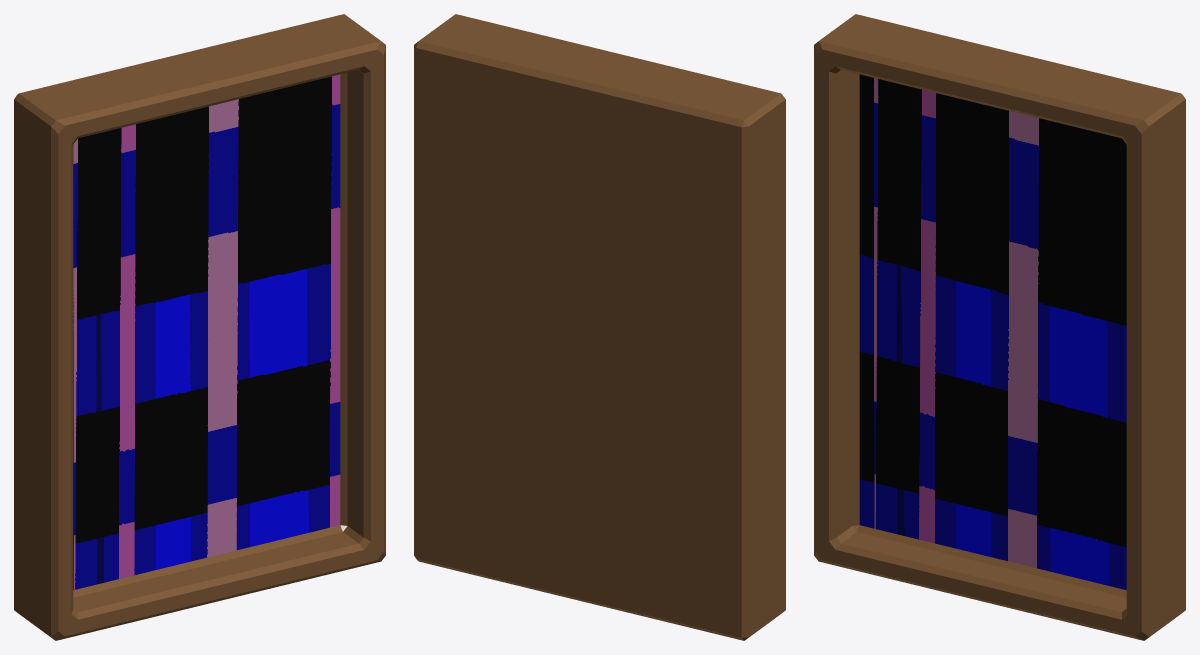
File: Painting3.fbx
3 renders of one model, left to right at view 1: azimuth 30°, elevation 25°; view 2: azimuth 150°, elevation 25°; view 3: azimuth 330°, elevation 25°, orthographic.
Parts seen in each view (by area): view 1: Cube.001; view 2: Cube.001; view 3: Cube.001.
Part boxes in pixels (<box>): Cube.001: <box>14,14,385,640</box>; Cube.001: <box>414,14,785,640</box>; Cube.001: <box>814,14,1185,640</box>.
Bounding box in the file's own units: 480 × 713 × 105.
